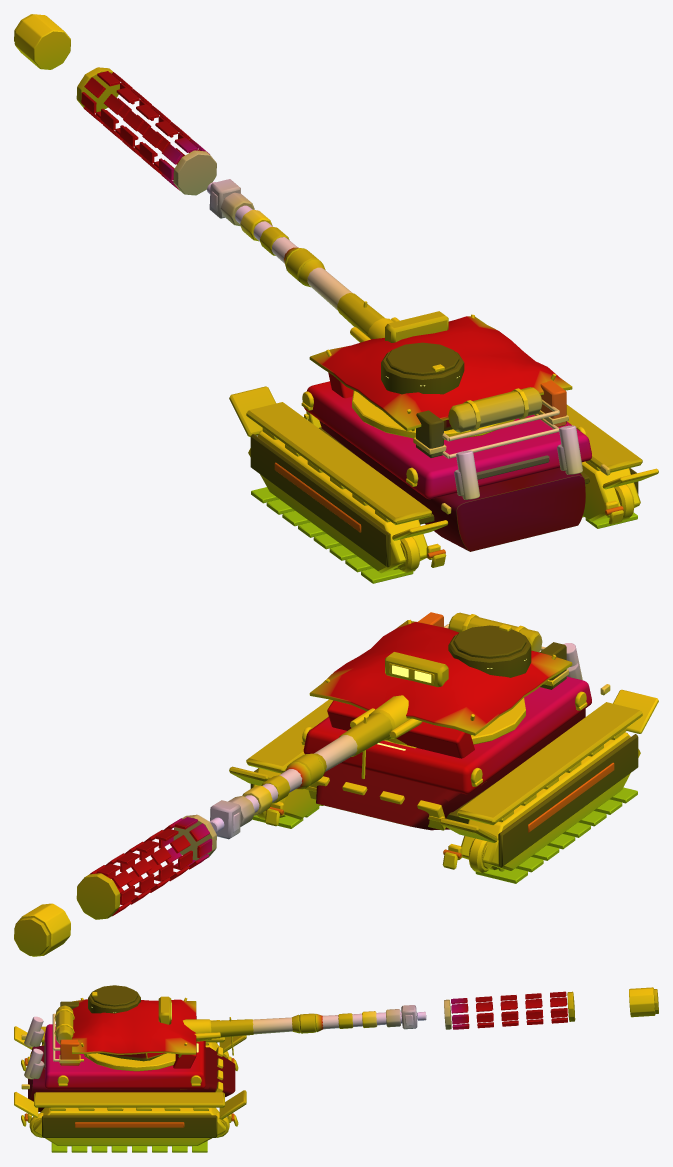
Rendered from LongshotTankette.fbx.
The picture shows the model from 3 angles, top to bottom: view 1: azimuth 30°, elevation 25°; view 2: azimuth 150°, elevation 25°; view 3: azimuth 270°, elevation 25°; orthographic projection. The views are drawn at different scales.
Parts seen in each view (by area): view 1: LongshotTankette_LongshotTankette_LightArmor, LongshotTankette_LongshotTankette_PrimaryArmor, LongshotTankette_LongshotTankette_Gunmetal, LongshotTankette_LongshotTankette_Tread, LongshotTankette_LongshotTankette_Warning, LongshotTanketteGun_MainBarrel; view 2: LongshotTankette_LongshotTankette_LightArmor, LongshotTankette_LongshotTankette_PrimaryArmor, LongshotTankette_LongshotTankette_Gunmetal, LongshotTankette_LongshotTankette_Tread, LongshotTanketteGun_MainBarrel, LongshotTankette_LongshotTankette_Warning; view 3: LongshotTankette_LongshotTankette_LightArmor, LongshotTankette_LongshotTankette_PrimaryArmor, LongshotTankette_LongshotTankette_Gunmetal, LongshotTankette_LongshotTankette_Tread, LongshotTankette_LongshotTankette_Warning, LongshotTanketteGun_MainBarrel.
Boxes of the visible parts, <box> form: LongshotTankette_LongshotTankette_LightArmor: <box>14,14,642,524</box>; LongshotTankette_LongshotTankette_PrimaryArmor: <box>250,342,638,567</box>; LongshotTankette_LongshotTankette_Gunmetal: <box>14,14,634,572</box>; LongshotTankette_LongshotTankette_Tread: <box>240,209,658,583</box>; LongshotTankette_LongshotTankette_Warning: <box>274,380,623,558</box>; LongshotTanketteGun_MainBarrel: <box>235,205,352,310</box>; LongshotTankette_LongshotTankette_LightArmor: <box>14,612,642,955</box>; LongshotTankette_LongshotTankette_PrimaryArmor: <box>250,625,638,867</box>; LongshotTankette_LongshotTankette_Gunmetal: <box>15,619,630,956</box>; LongshotTankette_LongshotTankette_Tread: <box>242,614,658,883</box>; LongshotTanketteGun_MainBarrel: <box>245,735,357,812</box>; LongshotTankette_LongshotTankette_Warning: <box>266,612,614,858</box>; LongshotTankette_LongshotTankette_LightArmor: <box>29,989,658,1119</box>; LongshotTankette_LongshotTankette_PrimaryArmor: <box>28,985,235,1137</box>; LongshotTankette_LongshotTankette_Gunmetal: <box>21,987,655,1137</box>; LongshotTankette_LongshotTankette_Tread: <box>14,1009,377,1152</box>; LongshotTankette_LongshotTankette_Warning: <box>24,1039,234,1127</box>; LongshotTanketteGun_MainBarrel: <box>252,1011,402,1034</box>.
Bounding box in the file's own units: 221 × 153 × 729.
